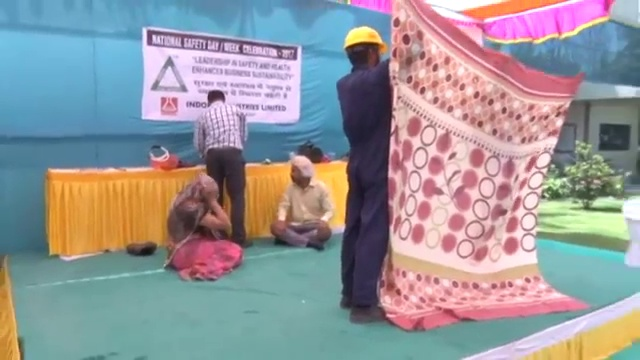helmet: (343, 24, 387, 53)
helmet_off: (194, 171, 222, 198), (287, 155, 311, 186), (206, 87, 226, 109)
helmet_on: (343, 25, 388, 66)
person: (336, 21, 388, 321), (195, 86, 255, 246), (166, 171, 242, 282), (269, 152, 334, 251)
